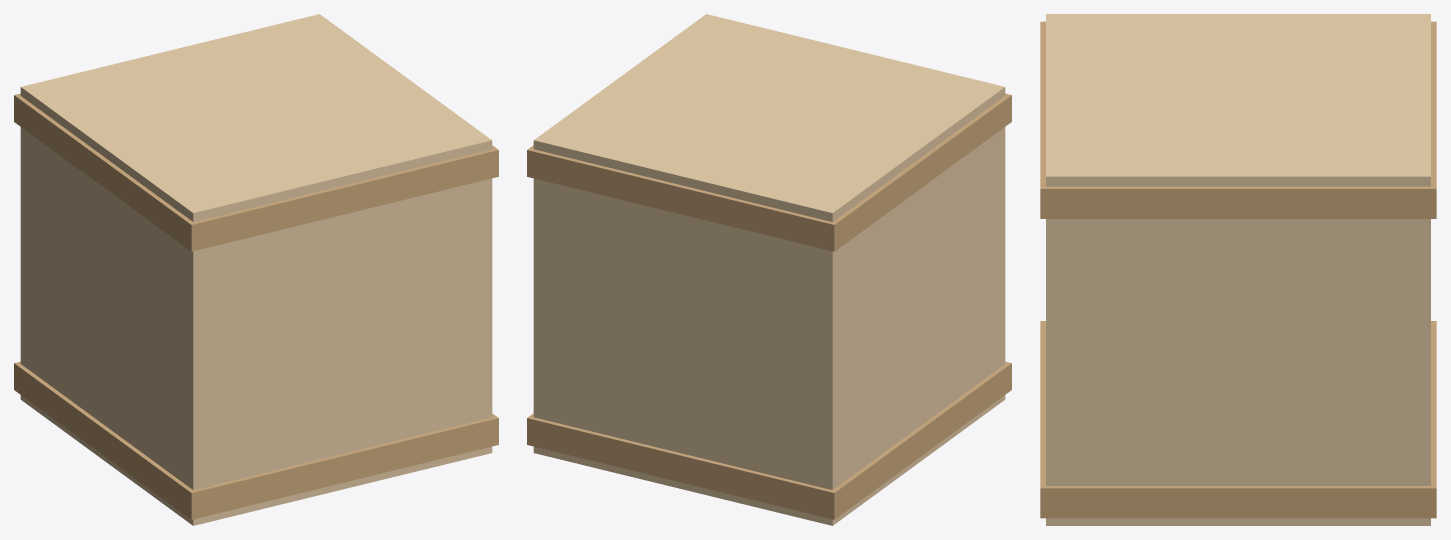
Rendered from prop_crate.glb.
3 renders of one model, left to right at view 1: azimuth 30°, elevation 25°; view 2: azimuth 150°, elevation 25°; view 3: azimuth 270°, elevation 25°, orthographic. The views are drawn at different scales.
Parts seen in each view (by area): view 1: Crate; view 2: Crate; view 3: Crate.
Part boxes in pixels (box(x1,y1,x2,y2)): Crate: box(14, 14, 498, 525); Crate: box(527, 14, 1011, 525); Crate: box(1040, 14, 1436, 525).
Bounding box in the file's own units: 0.72 × 0.7 × 0.72.
